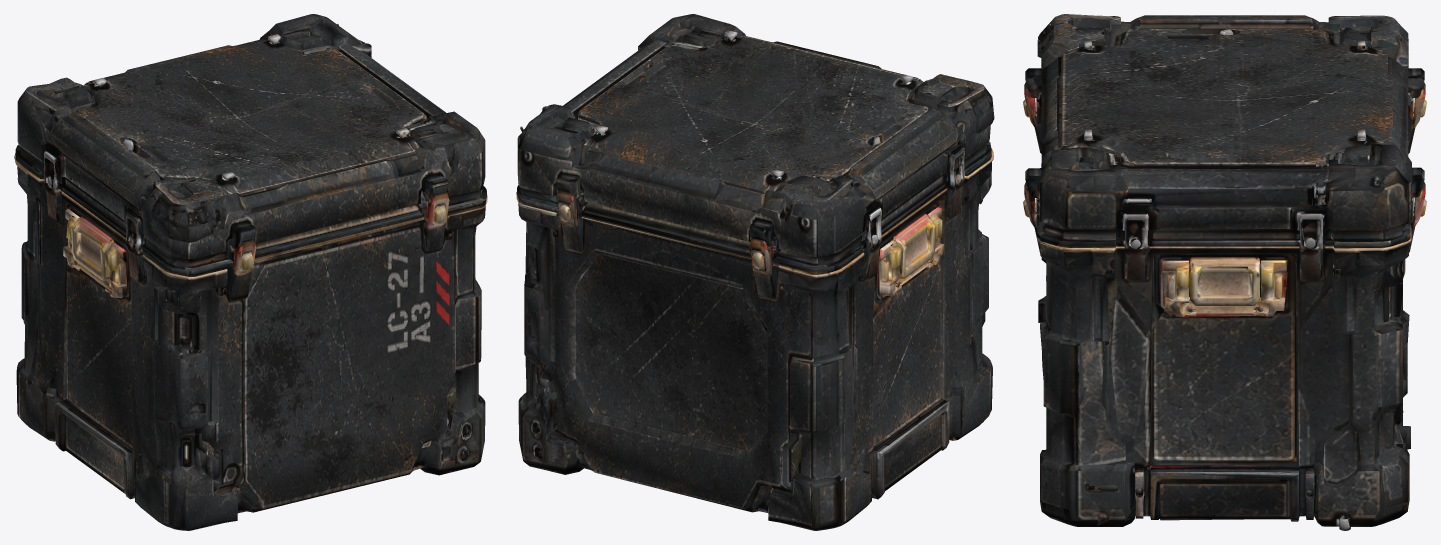
The model's file is Mini Crate.glb.
3 renders of one model, left to right at view 1: azimuth 30°, elevation 25°; view 2: azimuth 150°, elevation 25°; view 3: azimuth 270°, elevation 25°, orthographic. The views are drawn at different scales.
Parts seen in each view (by area): view 1: tripo_node_4393ea0a-10db-43bc-ad8d-2624a7fa1cc5; view 2: tripo_node_4393ea0a-10db-43bc-ad8d-2624a7fa1cc5; view 3: tripo_node_4393ea0a-10db-43bc-ad8d-2624a7fa1cc5.
Boxes of the visible parts, x1,y1,x2,y2 form: tripo_node_4393ea0a-10db-43bc-ad8d-2624a7fa1cc5: (14,14,487,530); tripo_node_4393ea0a-10db-43bc-ad8d-2624a7fa1cc5: (516,14,994,530); tripo_node_4393ea0a-10db-43bc-ad8d-2624a7fa1cc5: (1023,14,1426,530).
Size of the model in its own units: 0.6034 by 0.5946 by 0.6034.
1 material, 1 textured.
